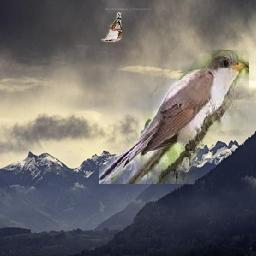Cuckoo: (99, 50, 249, 184), (102, 12, 123, 43)
